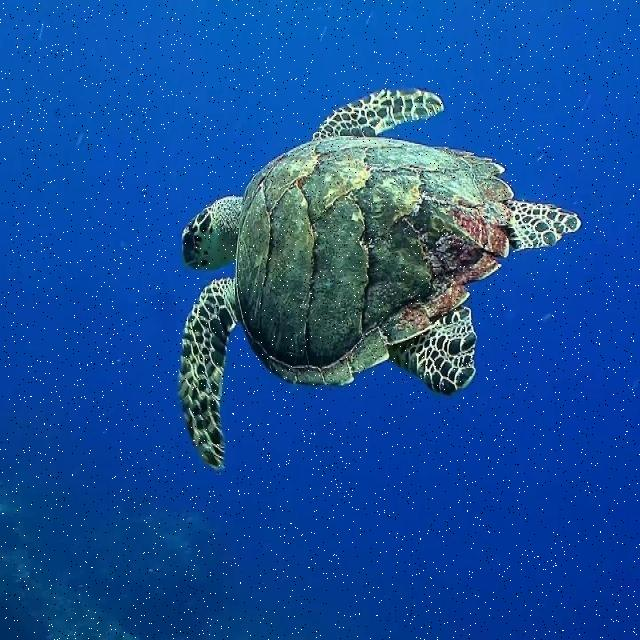fish: (177, 86, 583, 475)
